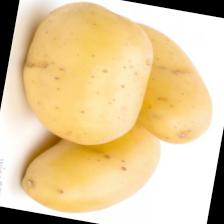potato: (10, 0, 161, 154), (16, 105, 165, 224), (102, 18, 224, 149)
